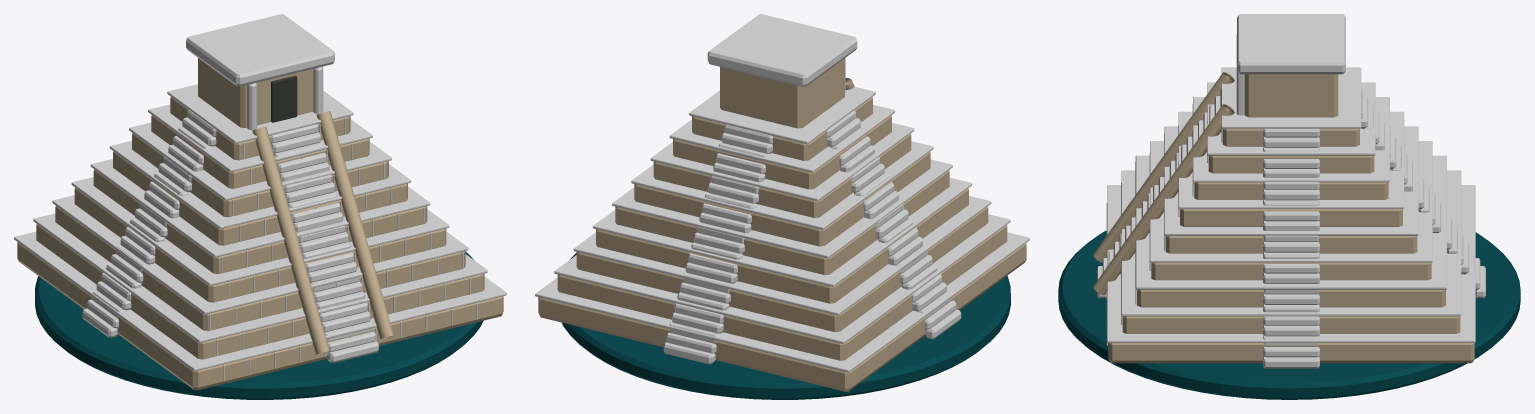
Rendered from chichen-itza.glb.
The picture shows the model from 3 angles, left to right: view 1: azimuth 30°, elevation 25°; view 2: azimuth 150°, elevation 25°; view 3: azimuth 270°, elevation 25°; orthographic projection.
Parts seen in each view (by area): view 1: body, pedestal; view 2: body, pedestal; view 3: body, pedestal.
Part boxes in pixels (x1=…): body: x1=14, y1=14, x2=506, y2=390; pedestal: x1=35, y1=252, x2=483, y2=399; body: x1=535, y1=14, x2=1029, y2=391; pedestal: x1=562, y1=252, x2=1010, y2=399; body: x1=1093, y1=14, x2=1485, y2=368; pedestal: x1=1058, y1=230, x2=1520, y2=399.
Bounding box in the file's own units: 4.4 × 2.79 × 4.4.
